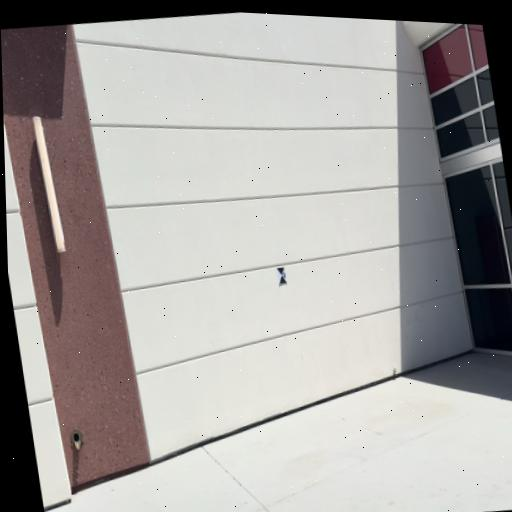target0: (276, 267, 288, 287)
